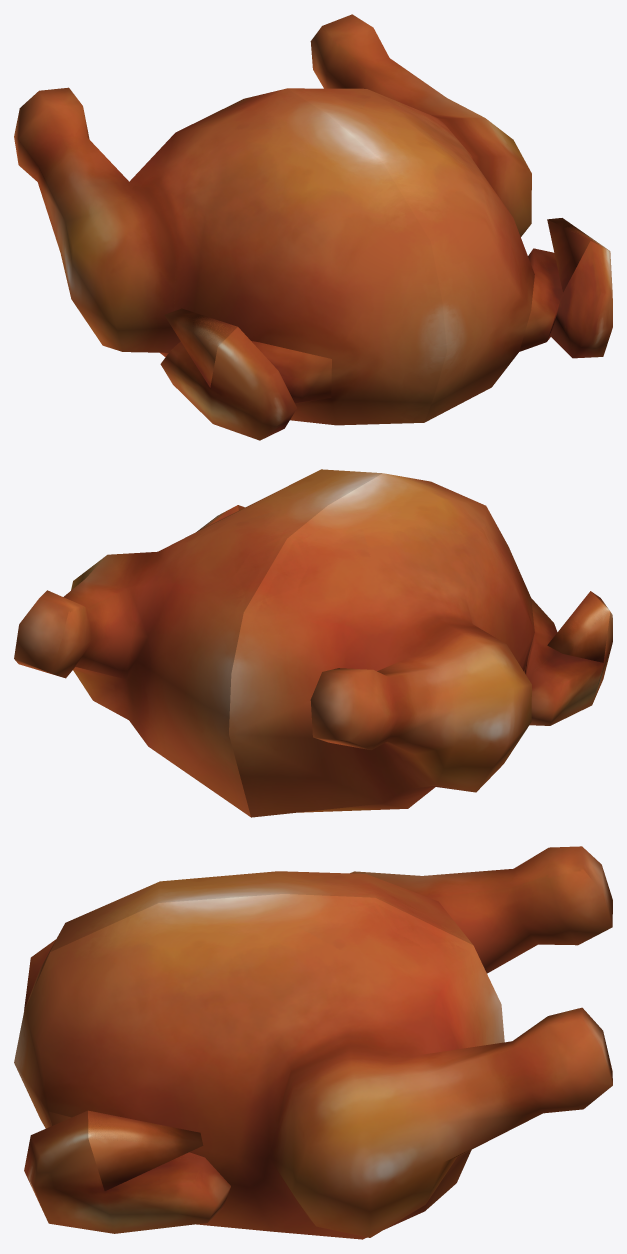
Rendered from rosted_chicken_01.obj.
3 views of the same model, one above another, from view 1: azimuth 30°, elevation 25°; view 2: azimuth 150°, elevation 25°; view 3: azimuth 270°, elevation 25° (orthographic). The views are drawn at different scales.
Parts seen in each view (by area): view 1: roasted_chicken_0.002_Cube.006, roasted_chicken_0.001_Cube.005, roasted_chicken_0.000_Cube.004; view 2: roasted_chicken_0.002_Cube.006, roasted_chicken_0.001_Cube.005, roasted_chicken_0.000_Cube.004, roasted_chicken_01_Cube; view 3: roasted_chicken_0.002_Cube.006, roasted_chicken_0.001_Cube.005, roasted_chicken_0.000_Cube.004, roasted_chicken_01_Cube.
Part boxes in pixels (x1,y1,x2,y2): roasted_chicken_0.002_Cube.006: [14, 14, 534, 425]; roasted_chicken_0.001_Cube.005: [160, 241, 612, 440]; roasted_chicken_0.000_Cube.004: [164, 218, 609, 387]; roasted_chicken_0.002_Cube.006: [14, 469, 534, 817]; roasted_chicken_0.001_Cube.005: [238, 505, 612, 725]; roasted_chicken_0.000_Cube.004: [197, 505, 610, 662]; roasted_chicken_01_Cube: [200, 506, 609, 652]; roasted_chicken_0.002_Cube.006: [14, 846, 612, 1239]; roasted_chicken_0.001_Cube.005: [24, 939, 230, 1233]; roasted_chicken_0.000_Cube.004: [88, 1110, 203, 1190]; roasted_chicken_01_Cube: [88, 1112, 201, 1144].
Bounding box in the file's own units: 2.23 × 1.36 × 2.33.
